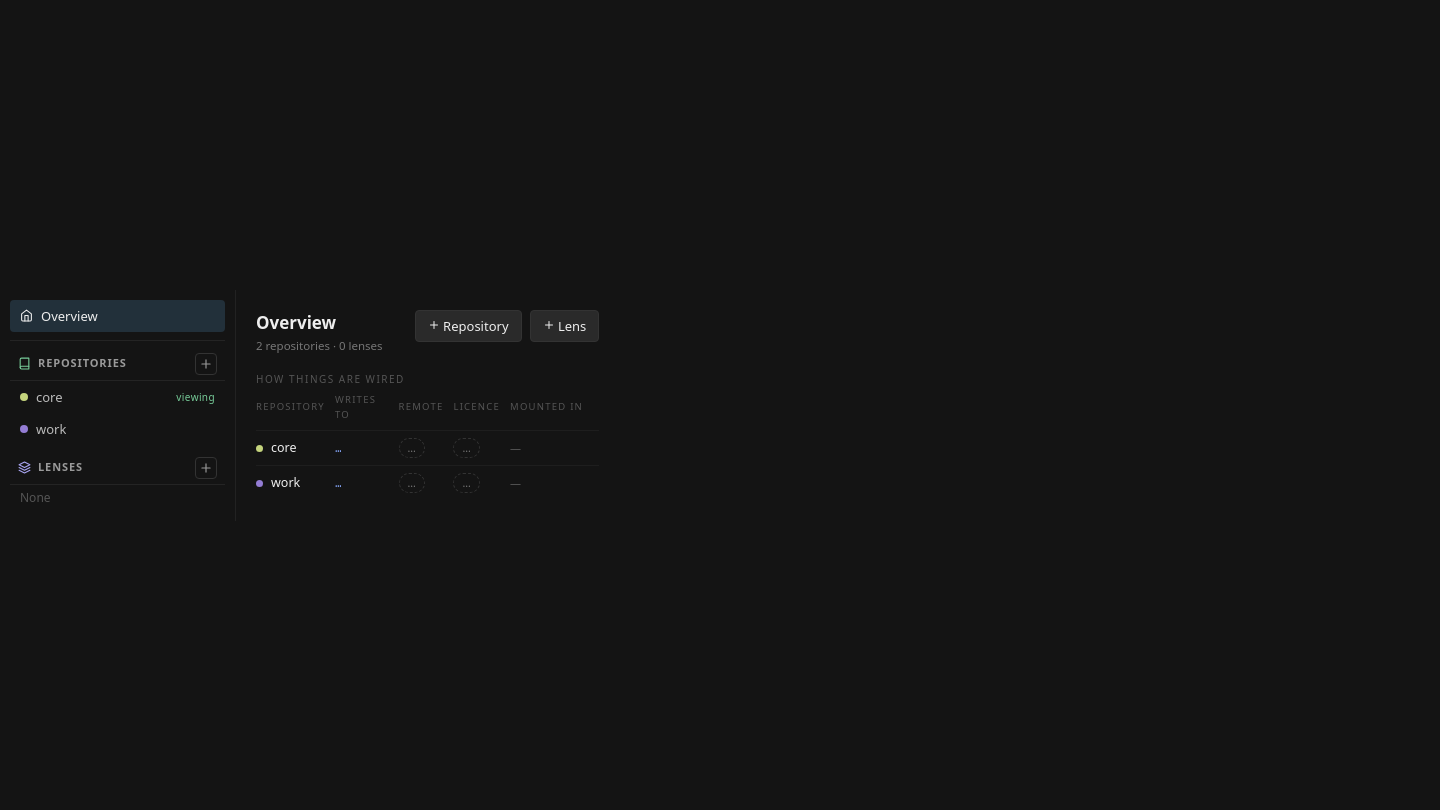
Test: RepoManager › shows the remote state when connected, and drops the Connect offer
Click the button with test id "repomgr-item-core" at (118, 396), box [10, 380, 225, 412]
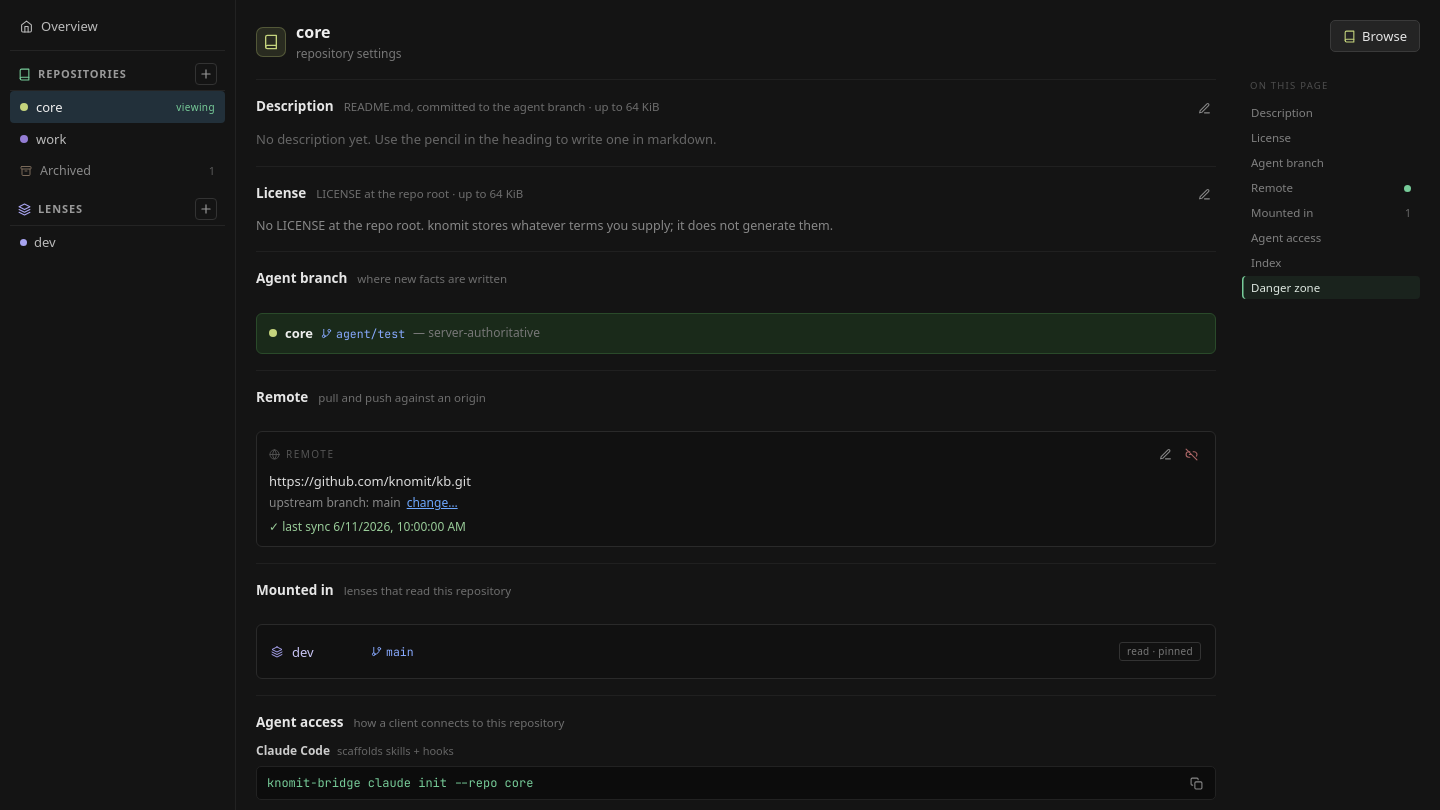
Result: the text "✓ last sync 6/11/2026, 10:00:00 AM" is shown at [269, 518, 466, 535]
